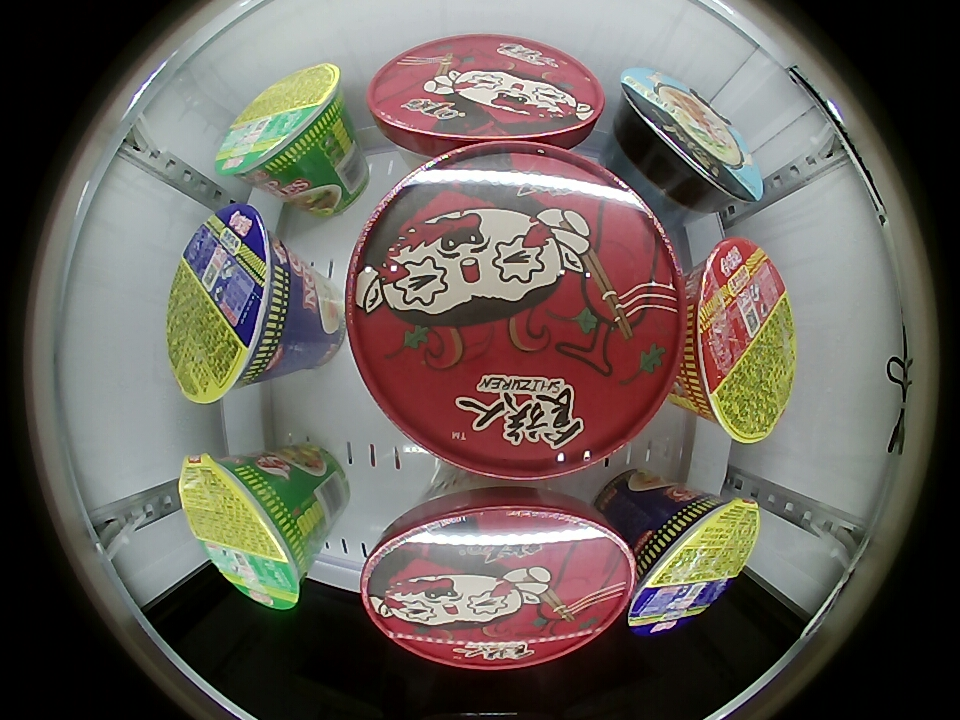heweidao: (168, 203, 298, 405), (627, 494, 760, 636)
heweidao2: (179, 452, 312, 610), (215, 63, 347, 184)
heweidao3: (680, 236, 795, 445)
suanlafen: (343, 140, 686, 480), (359, 484, 636, 669), (366, 36, 607, 156)
tangdaren3: (617, 67, 763, 206)
